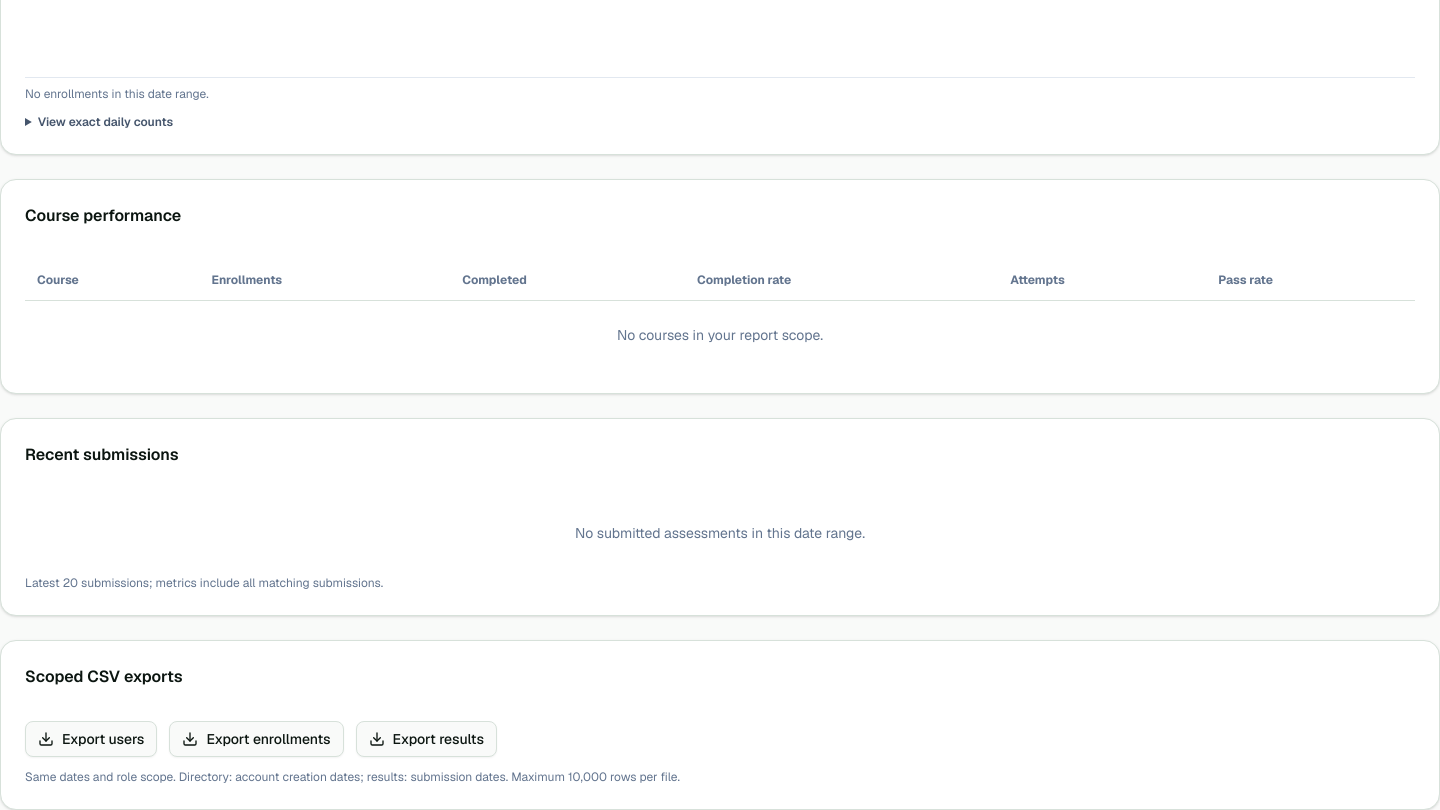
it: surfaces failed CSV exports without opening a broken download
(page scrolled)
What coordinates should you click on to do the following:
click the button "Export enrollments"
I would click on:
 (256, 738)
Its box is [169, 720, 344, 756].
(page scrolled)
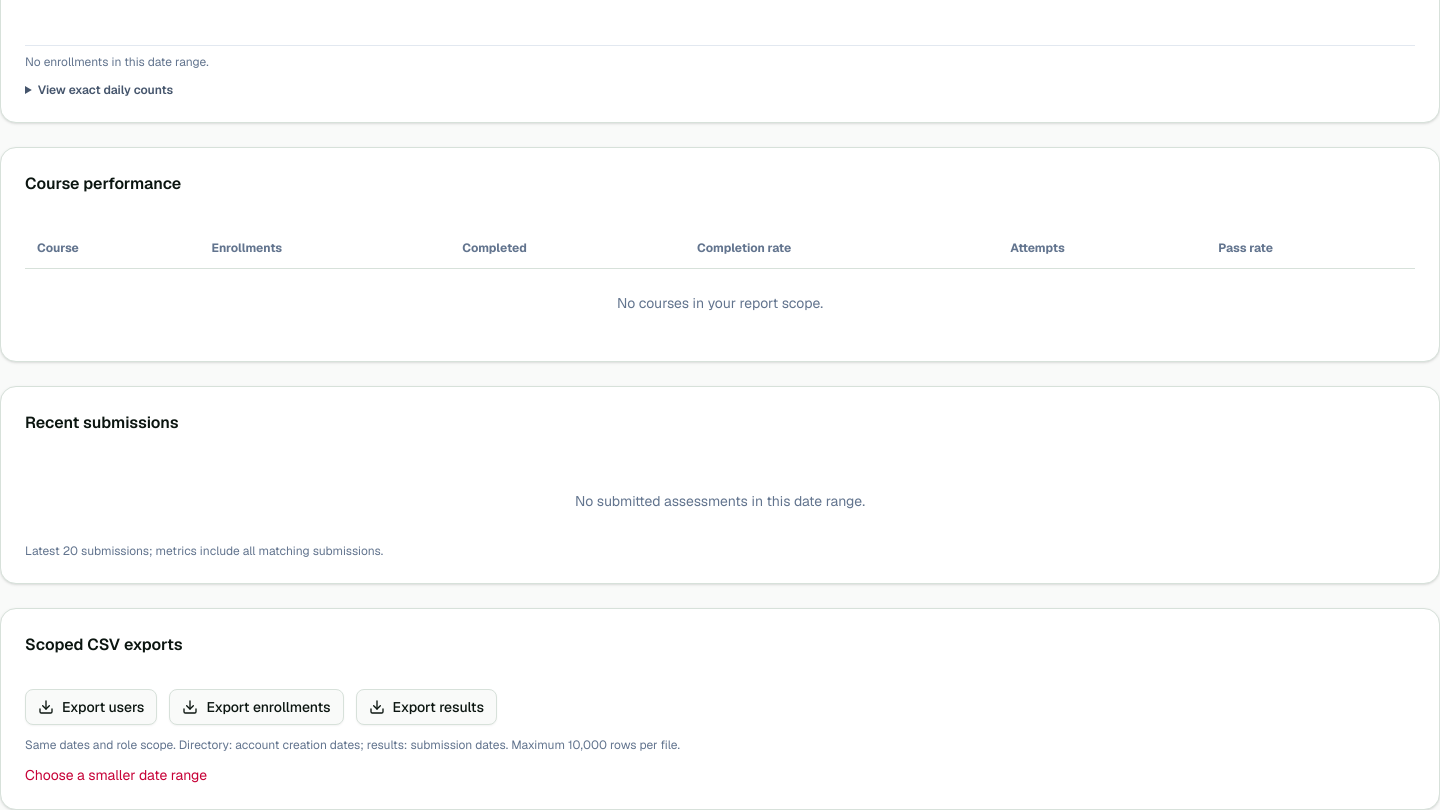
Expected: the message reads "Choose a smaller date range", [25, 766, 207, 784]
